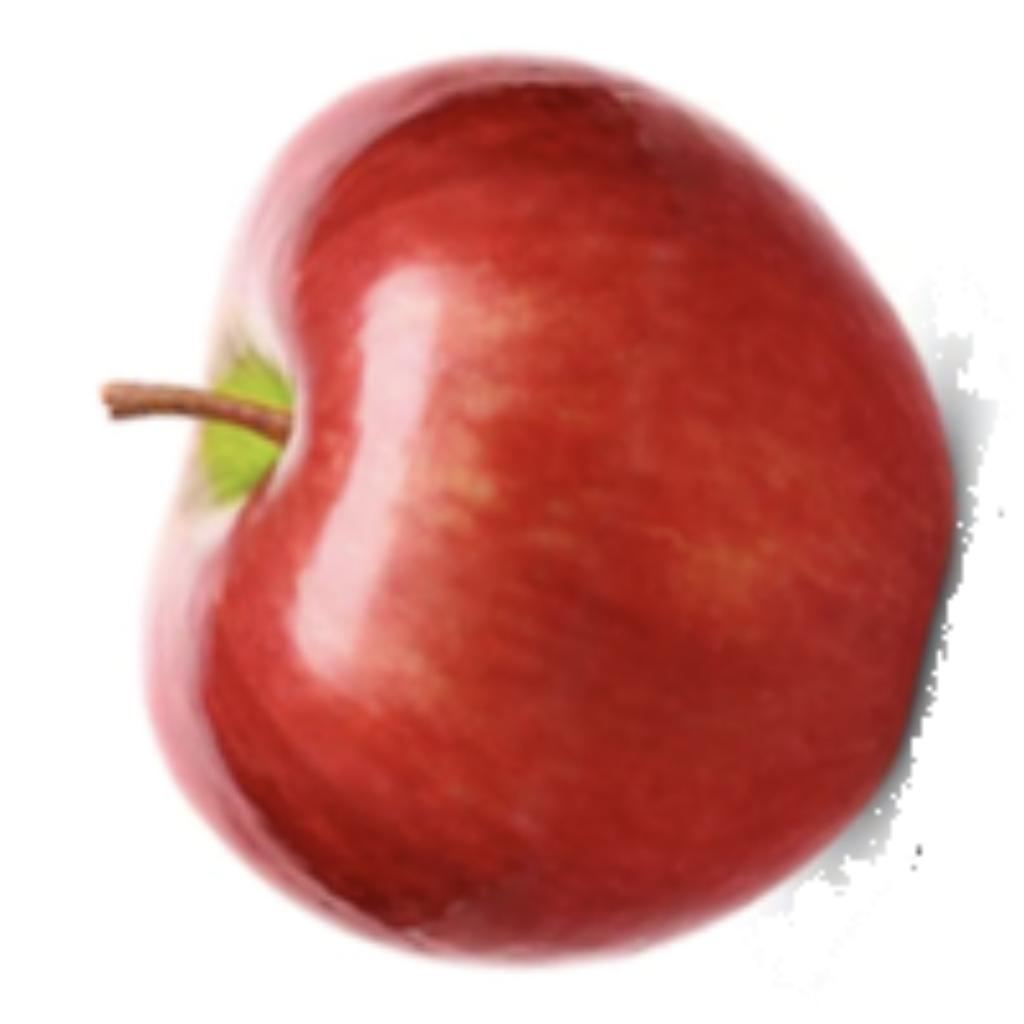apple: (92, 41, 998, 973)
